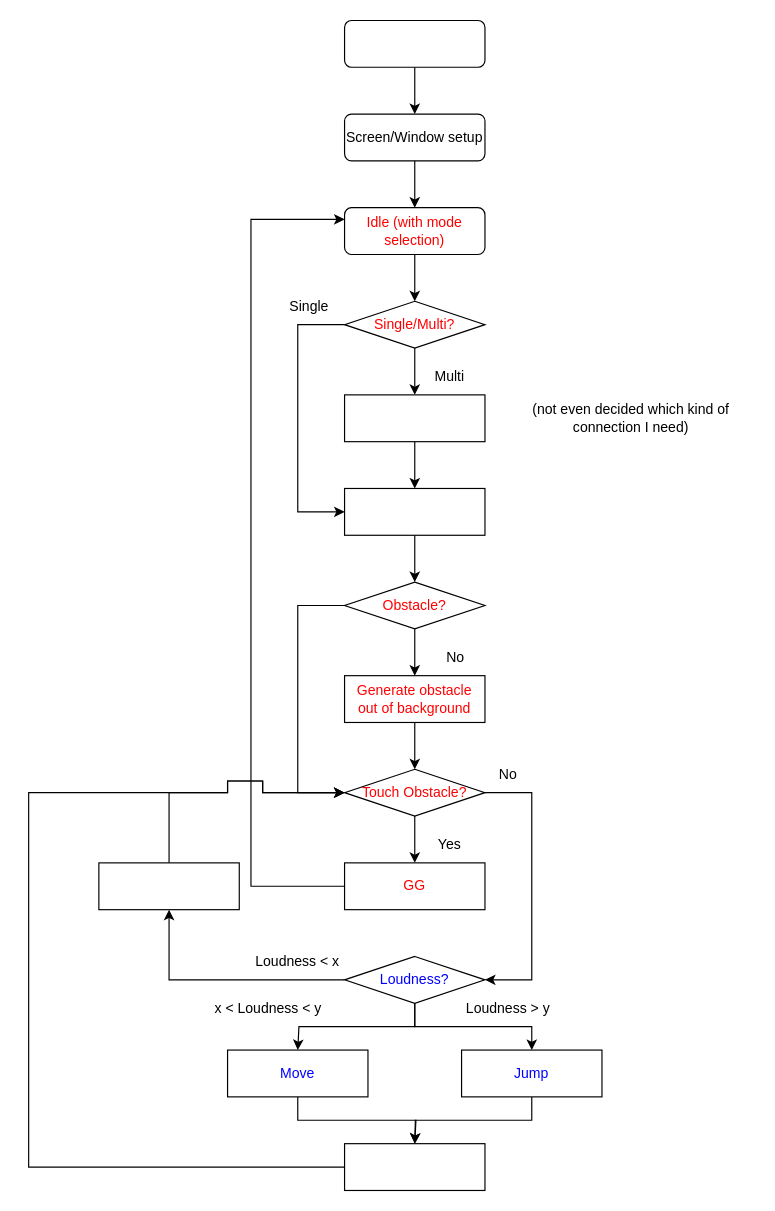
Image size: 775x1211. Some labels were removed from this diagram. The box of each missing label's shape, as (x1, y1, x2, y2) in pixels:
Game Background Setup: (343, 487, 485, 535)
Initial connection between 2 RasPi: (343, 394, 485, 442)
Scroll the background: (343, 1143, 485, 1190)
Start: (343, 19, 485, 67)
Stay: (98, 862, 239, 910)
